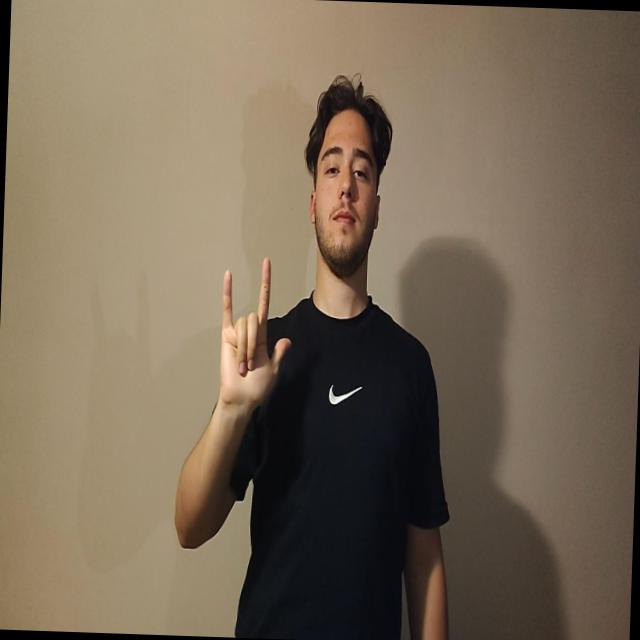iloveyou: (217, 254, 294, 413)
